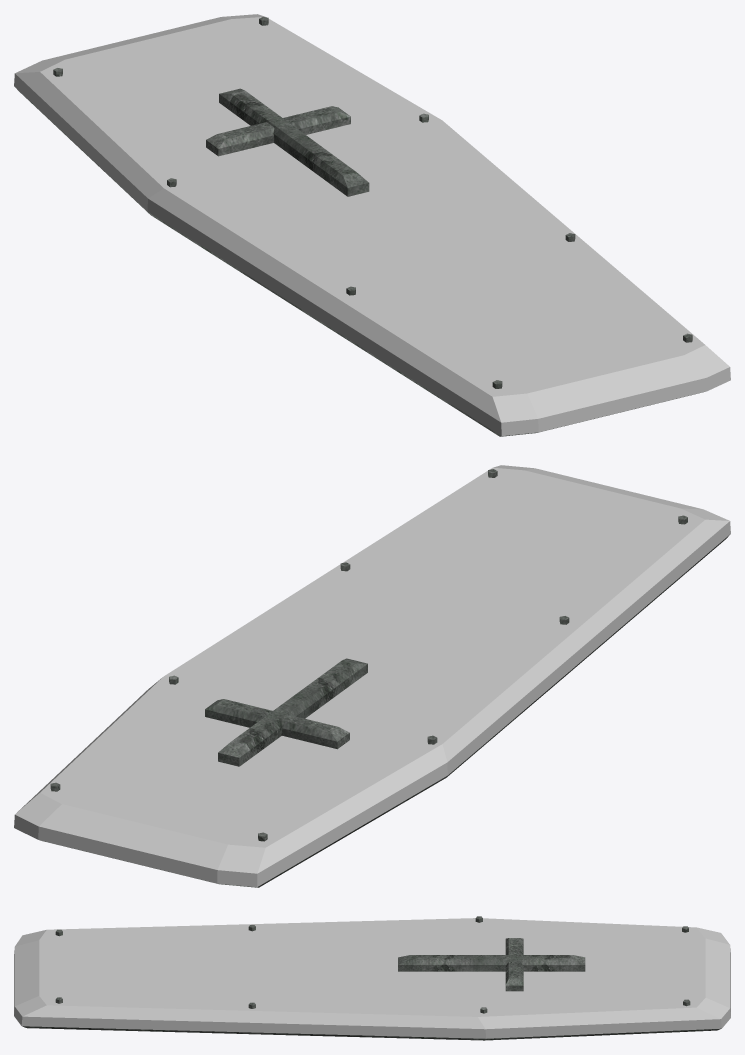
Rendered from CoffinCover.fbx.
The picture shows the model from 3 angles, top to bottom: view 1: azimuth 30°, elevation 25°; view 2: azimuth 150°, elevation 25°; view 3: azimuth 270°, elevation 25°; orthographic projection. The views are drawn at different scales.
Visible parts, largest first — view 1: Coffi; view 2: Coffi; view 3: Coffi.
Boxes of the visible parts, x1,y1,x2,y2 form: Coffi: (14,14,730,436); Coffi: (14,465,730,887); Coffi: (14,916,730,1040).
Bounding box in the file's own units: 77.31 × 10.38 × 220.
